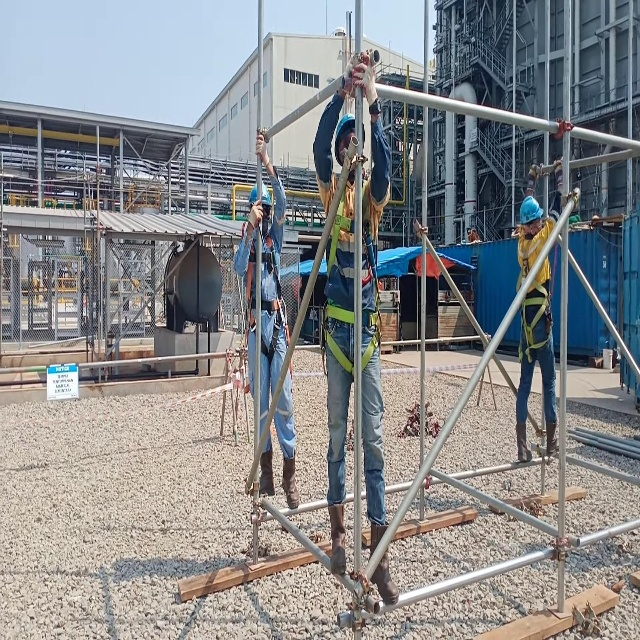Arnes_seguridad: (321, 171, 385, 376), (243, 224, 290, 375), (512, 232, 556, 364)
